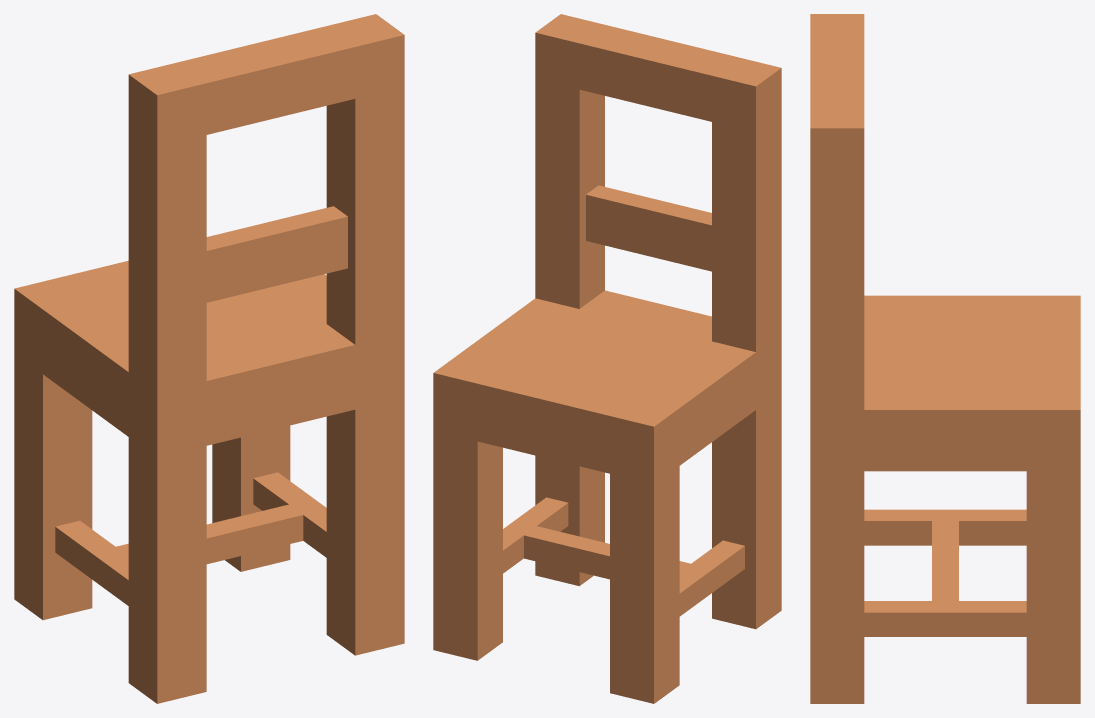
The model's file is chair.obj.
The picture shows the model from 3 angles, left to right: view 1: azimuth 30°, elevation 25°; view 2: azimuth 150°, elevation 25°; view 3: azimuth 270°, elevation 25°; orthographic projection. The views are drawn at different scales.
Parts seen in each view (by area): view 1: chair:chair; view 2: chair:chair; view 3: chair:chair.
Part boxes in pixels (x1=…): chair:chair: x1=14, y1=14, x2=404, y2=703; chair:chair: x1=433, y1=14, x2=781, y2=703; chair:chair: x1=810, y1=14, x2=1080, y2=703.
Bounding box in the file's own units: 0.2 × 0.47 × 0.2.
